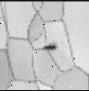good_void: (39, 44, 57, 51), (32, 36, 38, 42), (39, 33, 43, 36)
